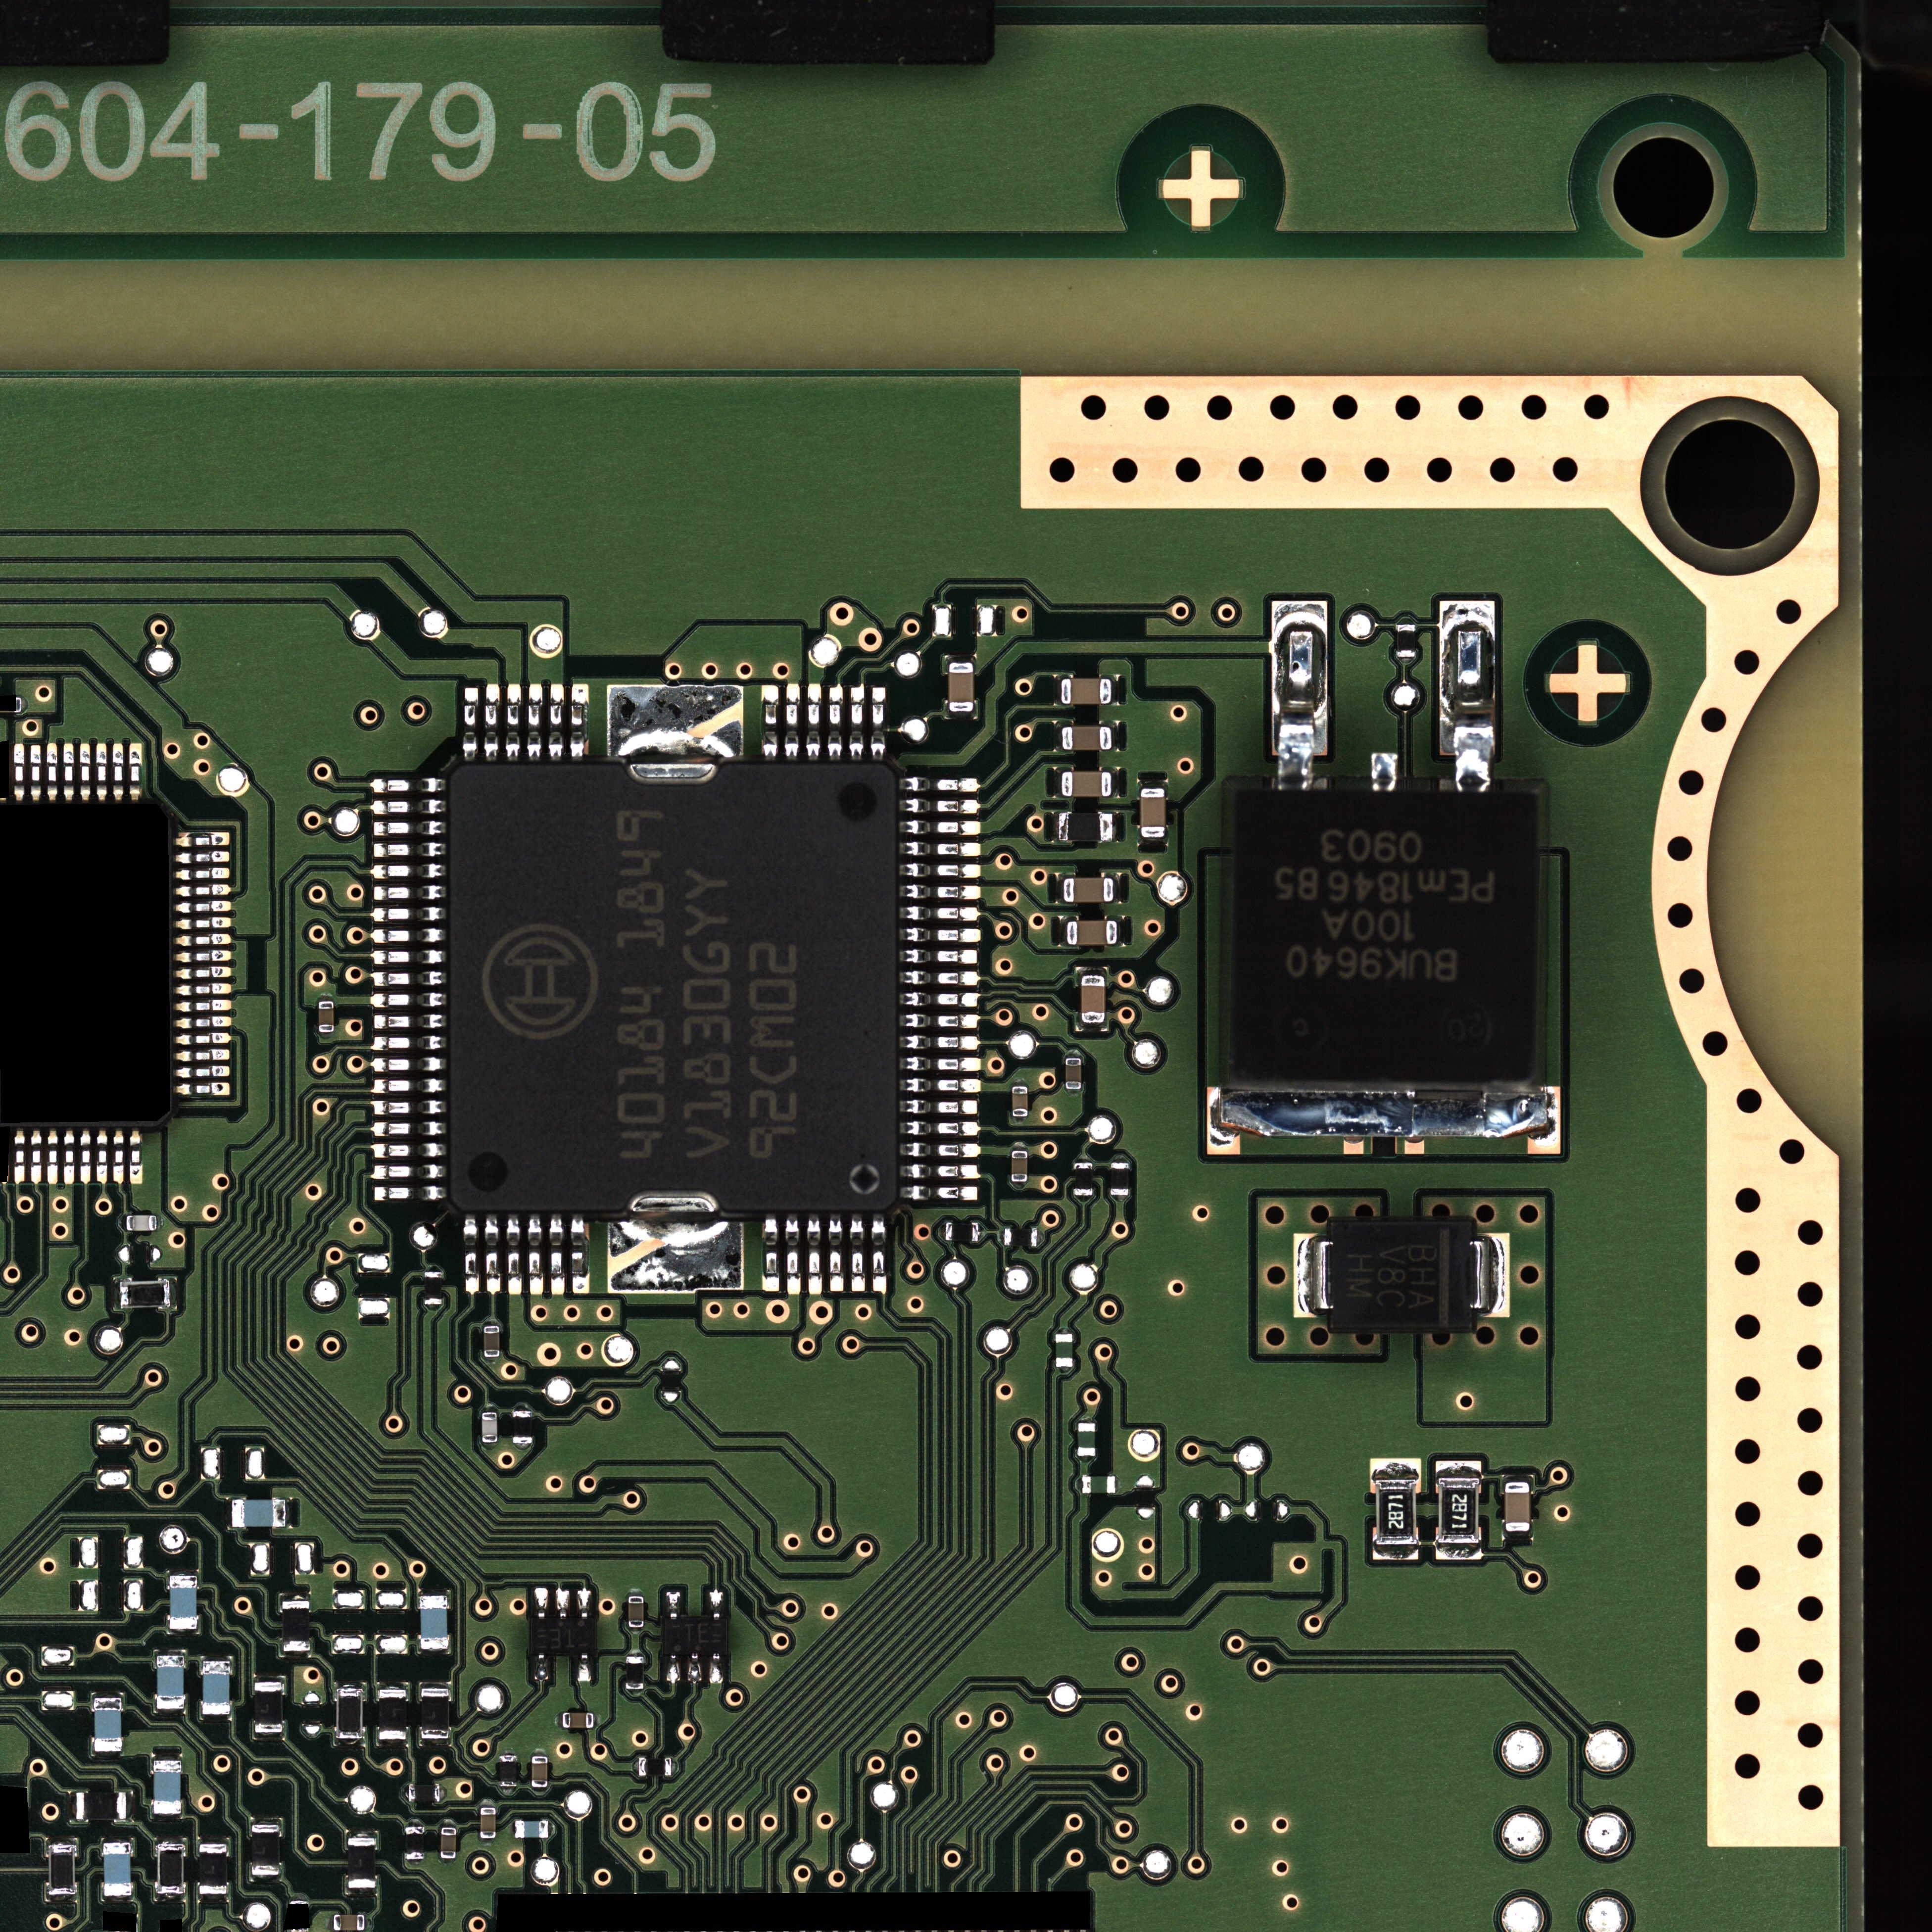Package: (449, 766, 897, 1210), (1237, 791, 1534, 1081), (1334, 1223, 1468, 1327), (1375, 1479, 1417, 1545), (1438, 1477, 1479, 1543), (663, 1619, 727, 1654), (531, 1619, 593, 1652), (1058, 812, 1113, 842), (94, 1698, 122, 1752), (421, 1688, 449, 1739), (157, 1656, 184, 1709), (232, 1500, 285, 1527), (170, 1576, 196, 1629), (203, 1661, 230, 1714), (154, 1760, 180, 1813), (421, 1596, 448, 1649), (251, 1826, 280, 1875), (379, 1690, 407, 1739), (76, 1792, 126, 1821), (104, 1844, 131, 1895), (200, 1844, 226, 1895), (120, 1281, 170, 1307), (349, 1838, 375, 1888), (283, 1601, 310, 1651), (255, 1683, 281, 1732), (1062, 678, 1111, 704), (1067, 920, 1118, 945), (157, 1845, 184, 1893), (50, 1845, 74, 1895), (1063, 878, 1113, 902), (1062, 725, 1111, 750), (1062, 771, 1111, 796), (1506, 1483, 1530, 1532), (948, 663, 973, 711), (338, 1690, 363, 1737), (1141, 789, 1166, 837), (1081, 975, 1106, 1023), (945, 1223, 978, 1242), (1074, 1162, 1093, 1196), (499, 1755, 518, 1787), (513, 1412, 533, 1444), (1005, 1228, 1037, 1247), (1396, 625, 1415, 656), (515, 1821, 548, 1838), (1077, 1422, 1095, 1456), (1111, 1162, 1129, 1196), (409, 1785, 441, 1803), (405, 1828, 423, 1859), (425, 1272, 442, 1304), (626, 1658, 644, 1690), (639, 1759, 671, 1776), (1083, 1476, 1115, 1493), (1056, 1334, 1072, 1368), (531, 1757, 548, 1787), (1010, 1152, 1028, 1182), (628, 1596, 644, 1628), (318, 1001, 334, 1031), (479, 1808, 495, 1838), (441, 1828, 456, 1858), (481, 1412, 497, 1442), (563, 1713, 593, 1729), (1065, 1058, 1081, 1088), (1012, 1086, 1028, 1116), (334, 1914, 364, 1930), (127, 1215, 156, 1231), (485, 1327, 499, 1357)
Solder: (1207, 1086, 1560, 1155), (1270, 600, 1329, 791), (607, 683, 745, 763), (607, 1214, 743, 1293), (1438, 600, 1495, 791), (1468, 1231, 1511, 1318), (1293, 1233, 1334, 1318), (571, 1215, 589, 1295), (571, 683, 589, 761), (761, 685, 778, 761), (899, 819, 982, 835), (899, 885, 982, 901), (899, 906, 980, 922), (901, 863, 982, 879), (899, 798, 980, 814), (901, 1035, 982, 1051), (901, 1014, 982, 1030), (901, 993, 982, 1008), (901, 1120, 982, 1136), (901, 777, 980, 793), (901, 927, 980, 943), (899, 948, 978, 964), (901, 1056, 980, 1072), (901, 1185, 980, 1201), (527, 683, 543, 761), (506, 683, 522, 761), (548, 683, 564, 761), (901, 1099, 978, 1115), (548, 1215, 564, 1293), (464, 686, 479, 763), (485, 685, 501, 761), (849, 685, 865, 761), (485, 1215, 501, 1292), (826, 1217, 842, 1293), (372, 906, 446, 922), (372, 863, 446, 879), (372, 948, 446, 964), (870, 686, 886, 761), (373, 1035, 448, 1051), (763, 1217, 778, 1292), (899, 842, 982, 856), (373, 885, 446, 901), (373, 842, 446, 858), (901, 1143, 982, 1157), (901, 971, 980, 985), (901, 1079, 980, 1093), (901, 1164, 980, 1178), (807, 683, 821, 761), (828, 683, 842, 761), (506, 1215, 520, 1293), (529, 1215, 543, 1293), (847, 1217, 862, 1295), (805, 1217, 819, 1295), (784, 1215, 798, 1293), (1369, 1458, 1421, 1479), (786, 683, 800, 759), (370, 1164, 446, 1178), (370, 1100, 446, 1115), (465, 1215, 479, 1292), (372, 778, 446, 793), (372, 800, 446, 814), (372, 929, 446, 943), (372, 993, 446, 1007), (373, 1016, 448, 1030), (373, 1058, 448, 1072), (372, 1079, 446, 1093), (372, 1143, 446, 1157), (872, 1217, 886, 1292), (1371, 752, 1398, 791), (373, 821, 446, 835), (373, 971, 446, 985), (370, 1187, 446, 1200), (127, 743, 143, 801), (372, 1122, 446, 1134), (175, 832, 232, 847), (1435, 1543, 1483, 1560), (173, 1081, 232, 1095), (173, 1031, 232, 1046), (173, 998, 232, 1012), (173, 867, 232, 881), (111, 743, 126, 801), (12, 743, 27, 801), (28, 743, 42, 801), (129, 1129, 143, 1185), (111, 1129, 126, 1185), (173, 1065, 230, 1079), (175, 1016, 232, 1030), (175, 982, 232, 996), (175, 964, 232, 978), (175, 948, 232, 962), (175, 932, 232, 947), (175, 915, 232, 929), (175, 883, 232, 897), (1373, 1545, 1419, 1560), (1435, 1461, 1481, 1477), (96, 743, 108, 801), (80, 743, 92, 801), (62, 743, 74, 801), (46, 743, 58, 801), (62, 1129, 74, 1185), (96, 1129, 108, 1185), (80, 1129, 92, 1185), (175, 1049, 232, 1062), (175, 901, 232, 913), (175, 851, 232, 863), (14, 1129, 27, 1184), (30, 1129, 42, 1184), (46, 1129, 58, 1184), (708, 1591, 724, 1619), (708, 1654, 724, 1683), (686, 1654, 702, 1683), (577, 1589, 591, 1619), (534, 1589, 548, 1619), (556, 1589, 570, 1619), (577, 1652, 591, 1681), (534, 1654, 548, 1683), (667, 1654, 681, 1683), (667, 1591, 679, 1619), (1113, 872, 1123, 904), (1116, 916, 1127, 947), (111, 1277, 120, 1311), (945, 711, 978, 720), (945, 655, 977, 663), (1111, 674, 1120, 706), (1054, 872, 1063, 904), (1049, 810, 1058, 842), (1053, 674, 1062, 706), (1053, 766, 1062, 798), (1076, 966, 1108, 975), (1076, 1023, 1108, 1031), (1058, 916, 1067, 947), (1111, 722, 1120, 752), (1138, 837, 1168, 846), (1111, 768, 1120, 798), (1138, 778, 1168, 787), (1053, 722, 1062, 752), (1502, 1530, 1532, 1539), (418, 1589, 451, 1596), (225, 1497, 232, 1530), (170, 1277, 177, 1309), (280, 1651, 311, 1658), (280, 1594, 311, 1601), (285, 1497, 292, 1529), (69, 1792, 76, 1824), (106, 1914, 138, 1921), (152, 1813, 182, 1821), (347, 1831, 377, 1838), (1113, 812, 1120, 842), (1502, 1474, 1532, 1481), (418, 1649, 451, 1654), (166, 1629, 200, 1635), (1396, 616, 1415, 625), (200, 1714, 232, 1720), (377, 1684, 409, 1690), (343, 1890, 375, 1895), (127, 1790, 133, 1822), (92, 1752, 122, 1757), (419, 1683, 449, 1688), (156, 1895, 186, 1900), (46, 1895, 76, 1900), (198, 1895, 228, 1900), (103, 1836, 133, 1842), (202, 1656, 232, 1661), (156, 1838, 186, 1844), (198, 1838, 228, 1844), (253, 1734, 283, 1739), (334, 1739, 364, 1744), (152, 1755, 182, 1760), (251, 1819, 281, 1824), (377, 1741, 407, 1746), (103, 1897, 133, 1902), (251, 1875, 280, 1881), (48, 1838, 76, 1844), (336, 1683, 364, 1688), (156, 1709, 184, 1714), (421, 1739, 449, 1744), (94, 1691, 122, 1697), (501, 1787, 517, 1796), (533, 1787, 548, 1796), (402, 1783, 409, 1803), (513, 1444, 533, 1451), (978, 1223, 985, 1242), (1074, 1155, 1093, 1162), (1074, 1196, 1093, 1203), (1037, 1228, 1044, 1247), (998, 1228, 1005, 1247), (425, 1304, 442, 1311), (499, 1748, 517, 1755), (1398, 656, 1415, 663), (1111, 1194, 1129, 1201), (1111, 1155, 1129, 1162), (1010, 1182, 1028, 1189), (1010, 1143, 1028, 1150), (1065, 1090, 1083, 1097), (1076, 1476, 1083, 1493), (425, 1265, 441, 1272), (483, 1320, 499, 1327), (120, 1215, 127, 1231), (318, 994, 334, 1001), (318, 1031, 334, 1039), (481, 1442, 497, 1449), (253, 1677, 285, 1681), (628, 1589, 644, 1596), (628, 1690, 644, 1697), (1065, 1051, 1081, 1058), (1012, 1079, 1028, 1086), (21, 697, 28, 713), (156, 1651, 186, 1654), (168, 1571, 198, 1575), (441, 1783, 446, 1803), (939, 1223, 945, 1242), (633, 1757, 639, 1776), (161, 1923, 180, 1928), (630, 1628, 644, 1635), (483, 1357, 501, 1362), (548, 1821, 554, 1838), (1056, 1368, 1074, 1373), (1077, 1417, 1095, 1422), (1077, 1456, 1095, 1461), (481, 1407, 497, 1412), (157, 1215, 163, 1231), (479, 1838, 495, 1844), (626, 1651, 642, 1656), (672, 1759, 678, 1775), (593, 1713, 598, 1729), (557, 1713, 563, 1729), (1056, 1329, 1072, 1334), (1012, 1116, 1028, 1122), (290, 1895, 306, 1900), (533, 1750, 547, 1755), (405, 1859, 425, 1863), (405, 1822, 423, 1826), (513, 1407, 531, 1410), (511, 1821, 515, 1838), (1116, 1476, 1120, 1493), (441, 1859, 456, 1863), (441, 1822, 456, 1826), (479, 1803, 495, 1806)
